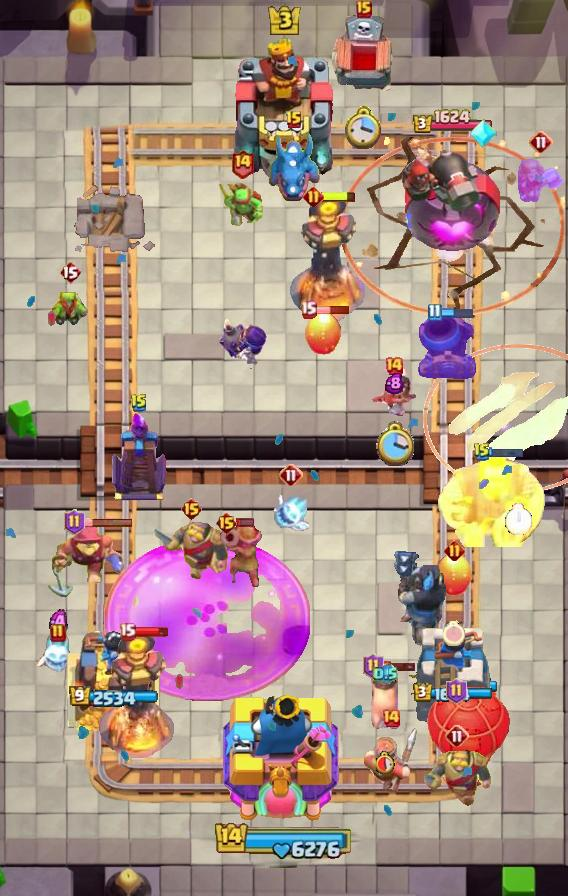bat: (36, 632, 80, 678), (273, 492, 309, 532)
bomb-tower: (220, 519, 262, 589)
cannon-cart: (427, 687, 511, 789)
clock: (214, 820, 354, 860)
earthquake: (363, 723, 419, 793)
electro-dragon: (289, 197, 367, 325), (97, 632, 175, 758)
electro-spirit: (373, 663, 398, 685), (49, 608, 68, 635), (384, 372, 404, 394)
elixir: (375, 421, 414, 468), (344, 104, 383, 148), (505, 503, 532, 535), (443, 621, 465, 646), (376, 750, 395, 773)
elixir-golem-mid: (329, 14, 399, 100)
emote: (82, 516, 134, 527), (321, 189, 357, 203), (438, 305, 474, 318), (488, 446, 524, 458), (133, 626, 169, 638), (381, 660, 417, 672), (314, 305, 350, 315), (237, 516, 256, 527)
executioner: (369, 667, 401, 731)
fireball: (46, 524, 126, 598)
firecracker: (153, 520, 229, 579), (423, 750, 493, 807)
giant-skeleton: (437, 453, 547, 547)
giant-snowball: (219, 181, 265, 227)
goblin-ball: (216, 319, 268, 375)
graveyard: (266, 131, 322, 205)
guard: (341, 136, 565, 315)
hog: (303, 312, 343, 356), (434, 553, 474, 597)
hog-rider: (517, 158, 565, 204)
ice-spirit-evolution-symbol: (109, 410, 169, 502)
ice-wizard: (424, 343, 568, 493)
inferno-dragon: (391, 547, 449, 647)
king-tower: (223, 689, 345, 826), (228, 35, 340, 181)
knight-evolution: (104, 538, 310, 701)
musketeer: (418, 315, 478, 379)
pad_2: (470, 118, 498, 150)
queen-tower: (66, 621, 162, 731), (409, 616, 497, 731)
selected: (69, 686, 159, 710), (412, 109, 494, 135), (413, 681, 493, 702)
skeleton-dragon: (369, 367, 419, 419)
text: (229, 149, 254, 180), (529, 130, 553, 154), (279, 463, 303, 487), (445, 724, 469, 748), (180, 497, 203, 521), (214, 511, 237, 535), (64, 509, 85, 535), (364, 653, 385, 679), (446, 678, 467, 704), (59, 260, 81, 284), (304, 185, 325, 207), (444, 539, 465, 560), (384, 356, 404, 376), (381, 708, 401, 728), (285, 110, 303, 130), (130, 393, 148, 413), (473, 442, 491, 462), (119, 623, 137, 641), (50, 623, 66, 643), (299, 301, 316, 319), (356, 0, 372, 18), (427, 302, 442, 321)
tower-bar: (402, 136, 504, 256)
zap: (51, 285, 89, 325)
